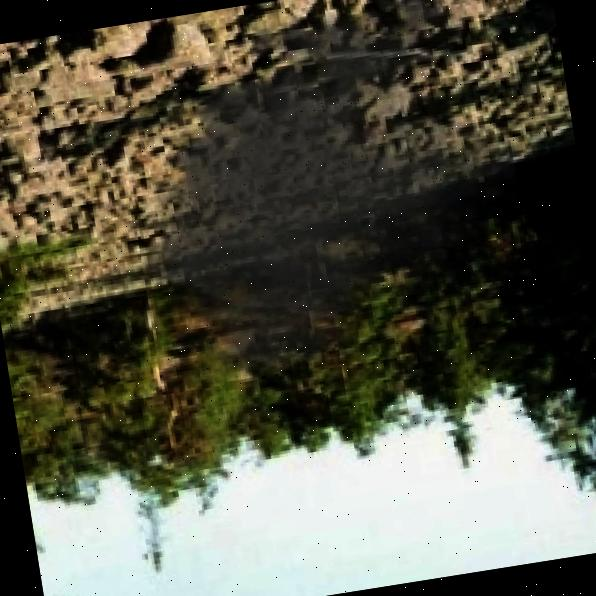smoke: (90, 0, 541, 400)
